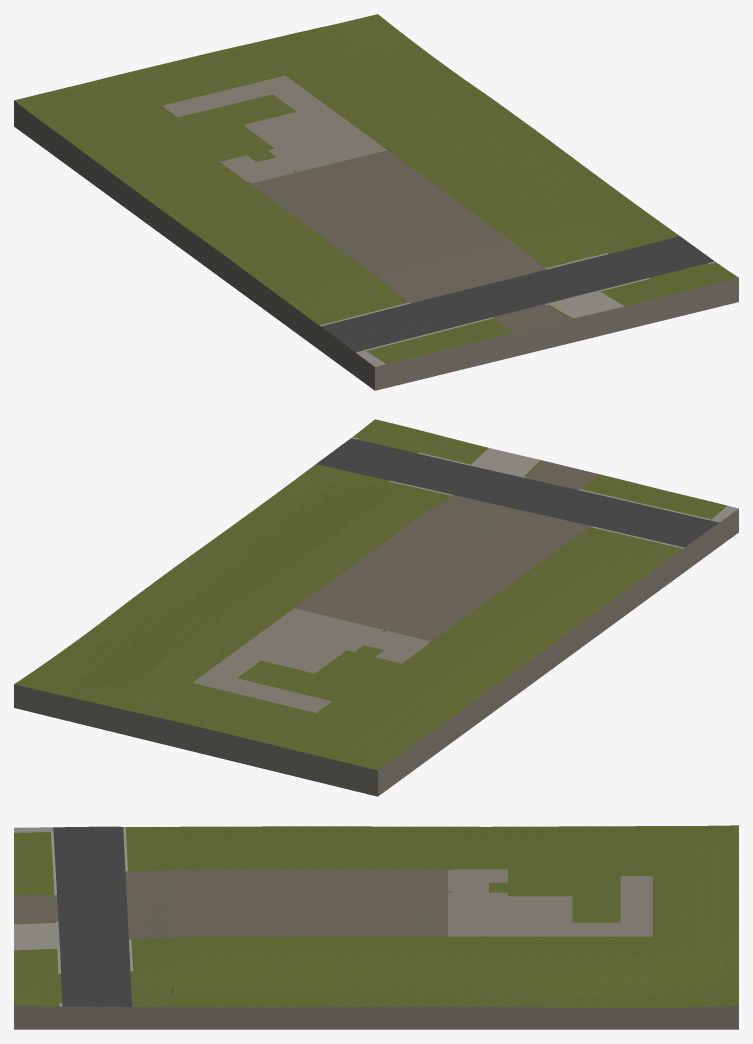
The model's file is landscape-site.glb.
3 renders of one model, top to bottom at view 1: azimuth 30°, elevation 25°; view 2: azimuth 150°, elevation 25°; view 3: azimuth 270°, elevation 25°, orthographic.
Bounding box in the file's own units: 32 × 2.24 × 55.
7 materials, 3 textured.
